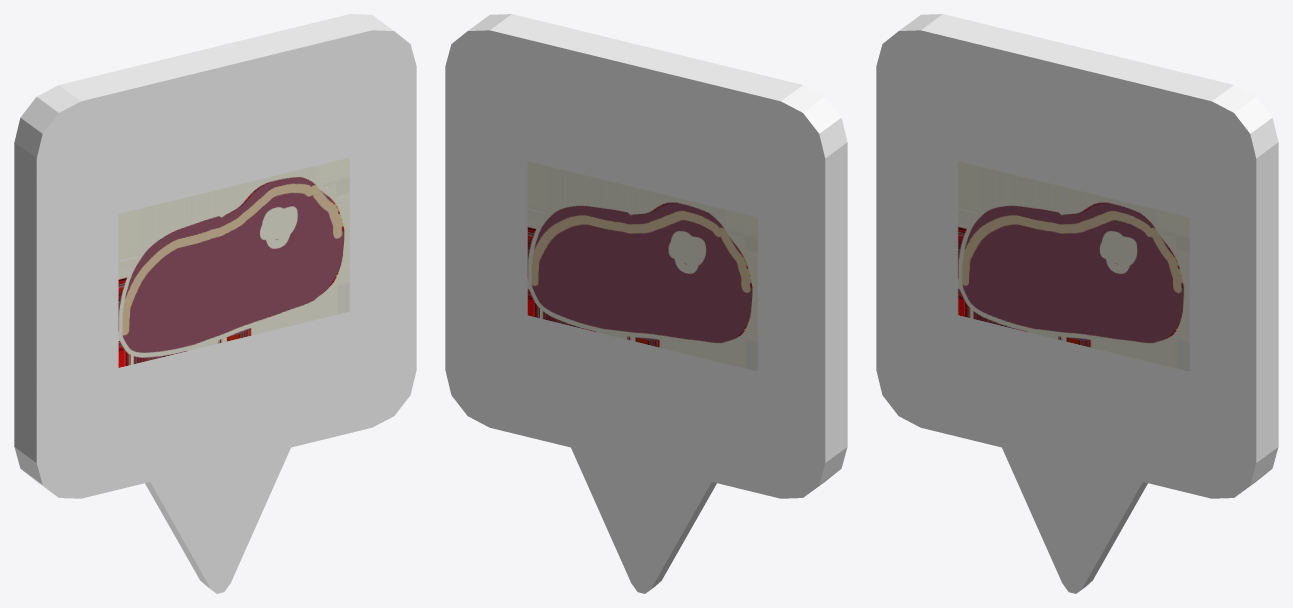
File: prodpin-fleisch.fbx
The picture shows the model from 3 angles, left to right: view 1: azimuth 30°, elevation 25°; view 2: azimuth 150°, elevation 25°; view 3: azimuth 330°, elevation 25°; orthographic projection.
Parts seen in each view (by area): view 1: ProdPIn; view 2: ProdPIn; view 3: ProdPIn.
Boxes of the visible parts, bbox=[...] form: ProdPIn: bbox=[14, 14, 416, 593]; ProdPIn: bbox=[445, 14, 847, 593]; ProdPIn: bbox=[876, 14, 1278, 593].
Size of the model in its own units: 200 by 268 by 20.35.
1 material, 1 textured.
